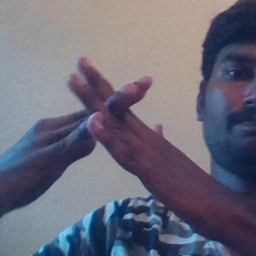W: (37, 52, 171, 181)
